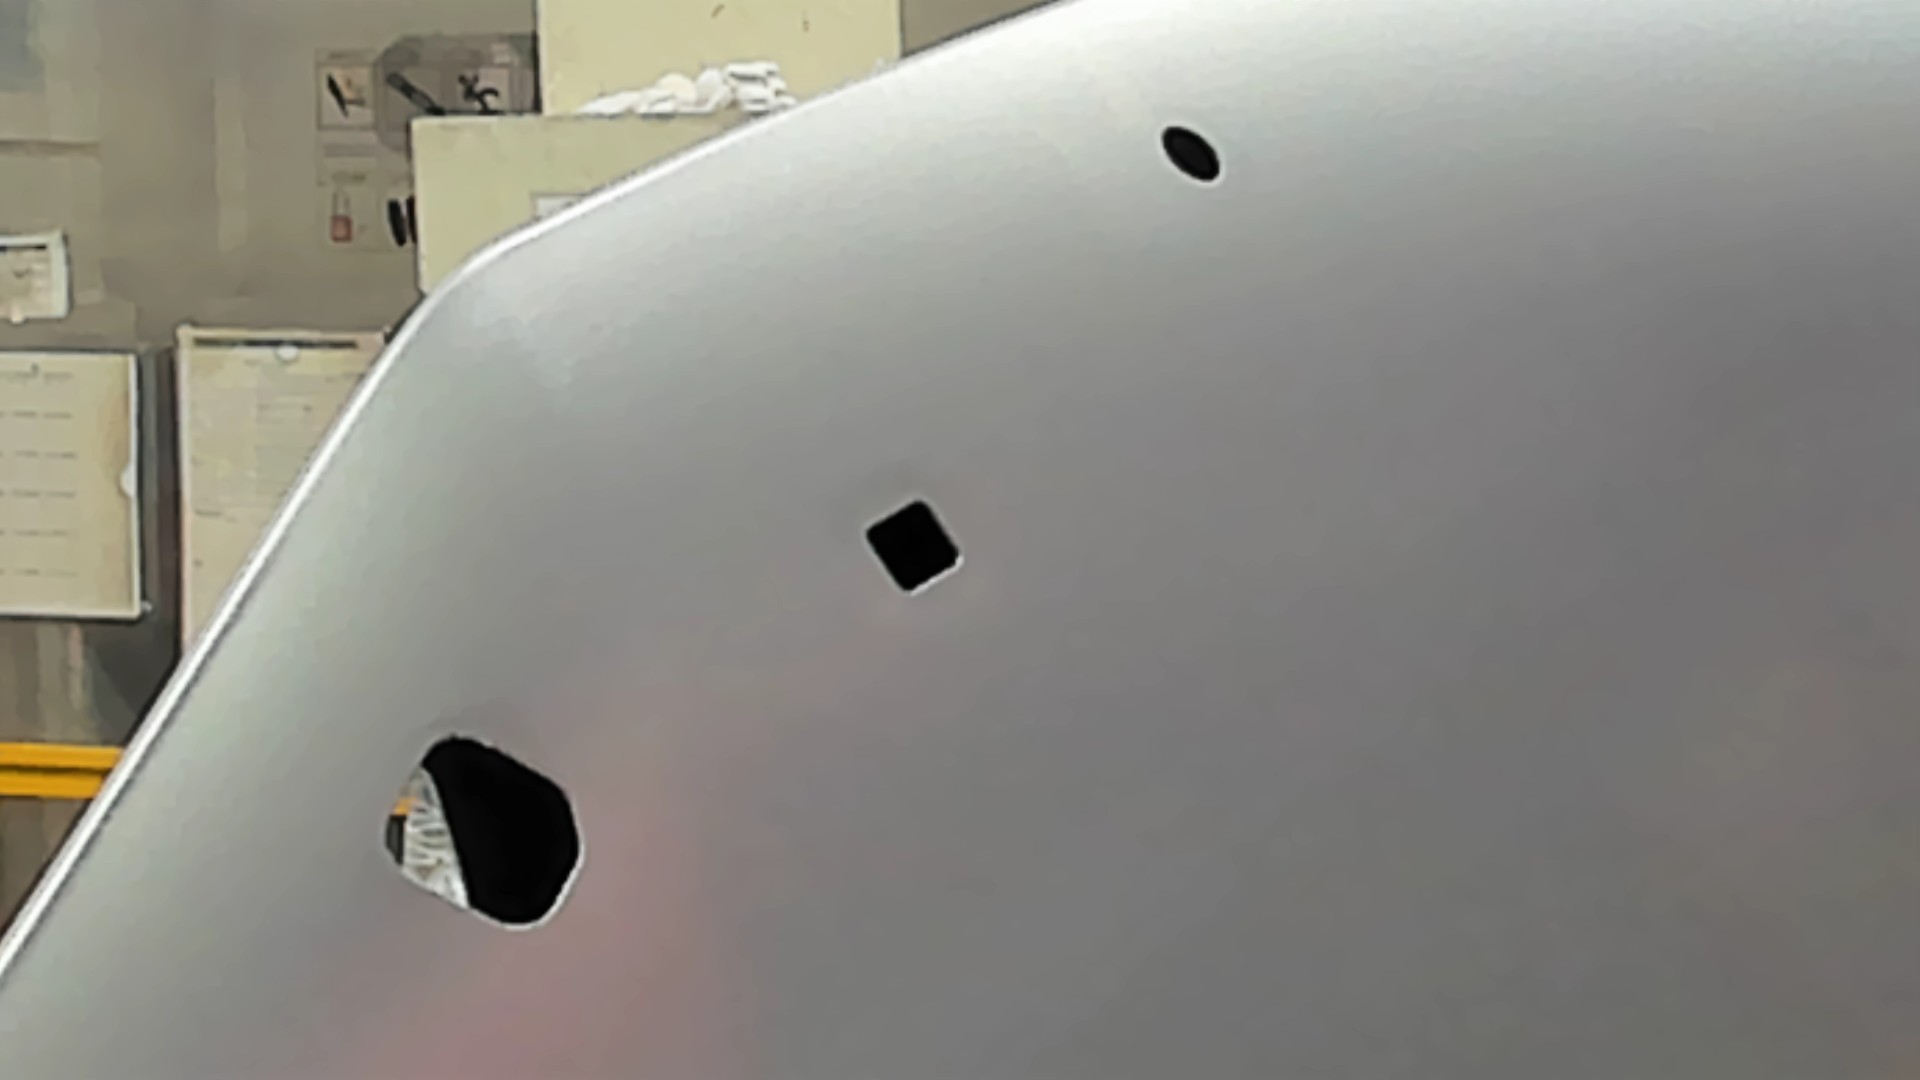capo: (971, 189, 1920, 1080)
chico: (1156, 120, 1225, 189)
grande: (378, 732, 588, 935)
mediano: (857, 491, 969, 603)
